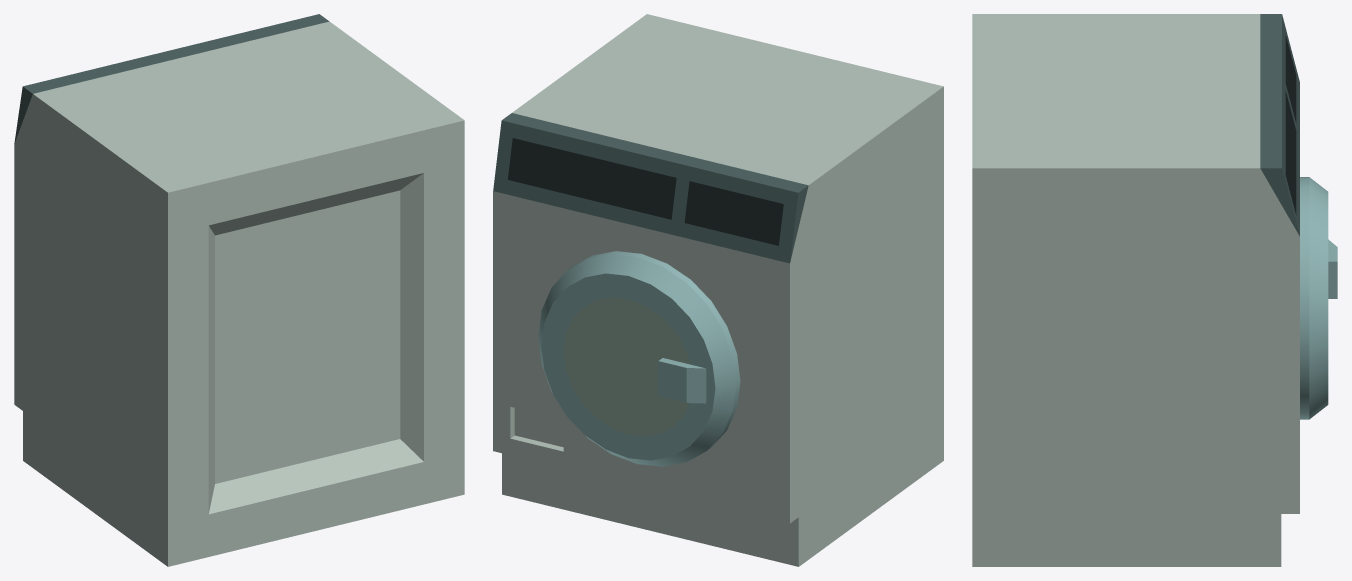
Rendered from washer.glb.
3 views of the same model, side by side, from view 1: azimuth 30°, elevation 25°; view 2: azimuth 150°, elevation 25°; view 3: azimuth 270°, elevation 25° (orthographic). The views are drawn at different scales.
Parts seen in each view (by area): view 1: washer; view 2: washer; view 3: washer.
Boxes of the visible parts, x1,y1,x2,y2 form: washer: (14,14,464,566); washer: (493,14,943,566); washer: (972,14,1337,566).
Size of the model in its own units: 0.78 by 0.94 by 0.78.
